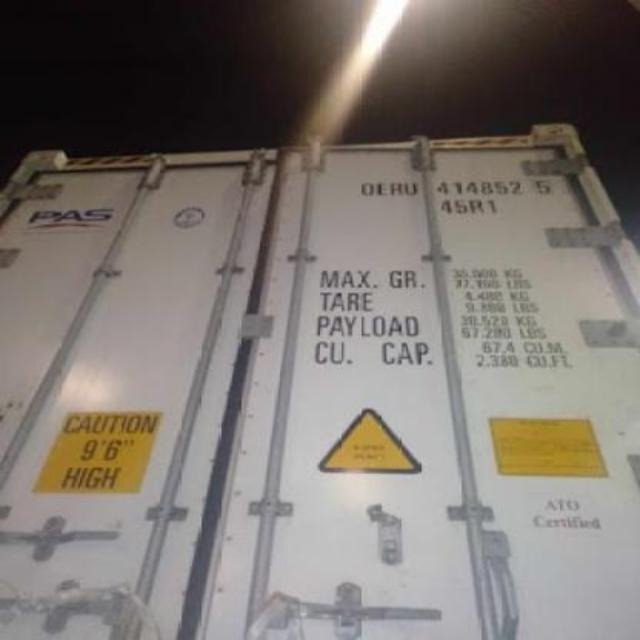1: (452, 180, 466, 196)
2: (508, 179, 526, 197)
4: (436, 182, 452, 196), (468, 180, 480, 196)
5: (494, 180, 510, 196), (536, 180, 554, 192)
8: (478, 180, 496, 196)
E: (376, 182, 388, 194)
O: (356, 181, 374, 197)
R: (390, 180, 402, 198)
U: (402, 180, 420, 198)
